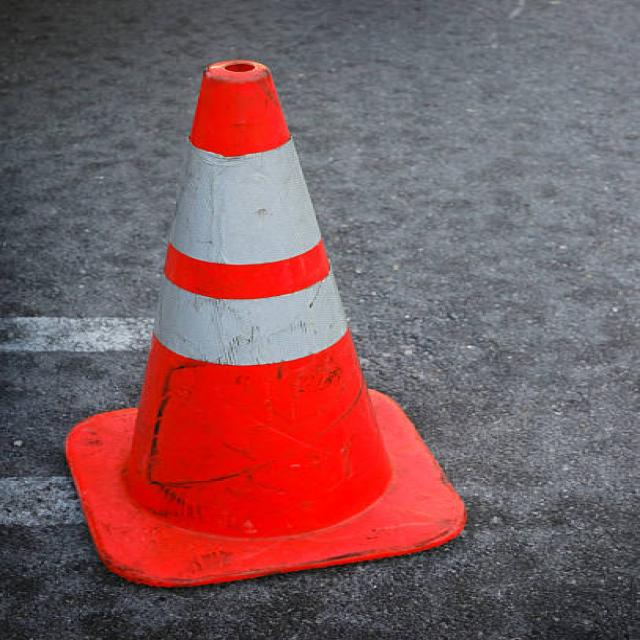Traffic Cone: (44, 30, 496, 601)
